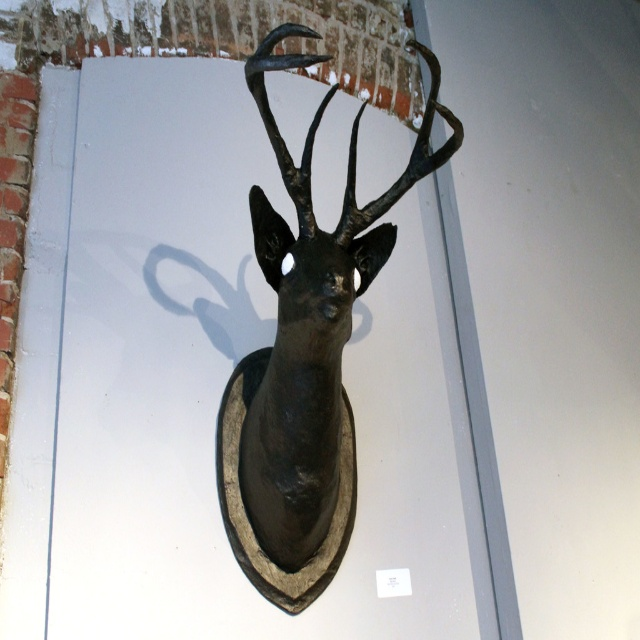Deer: (217, 22, 464, 614)
